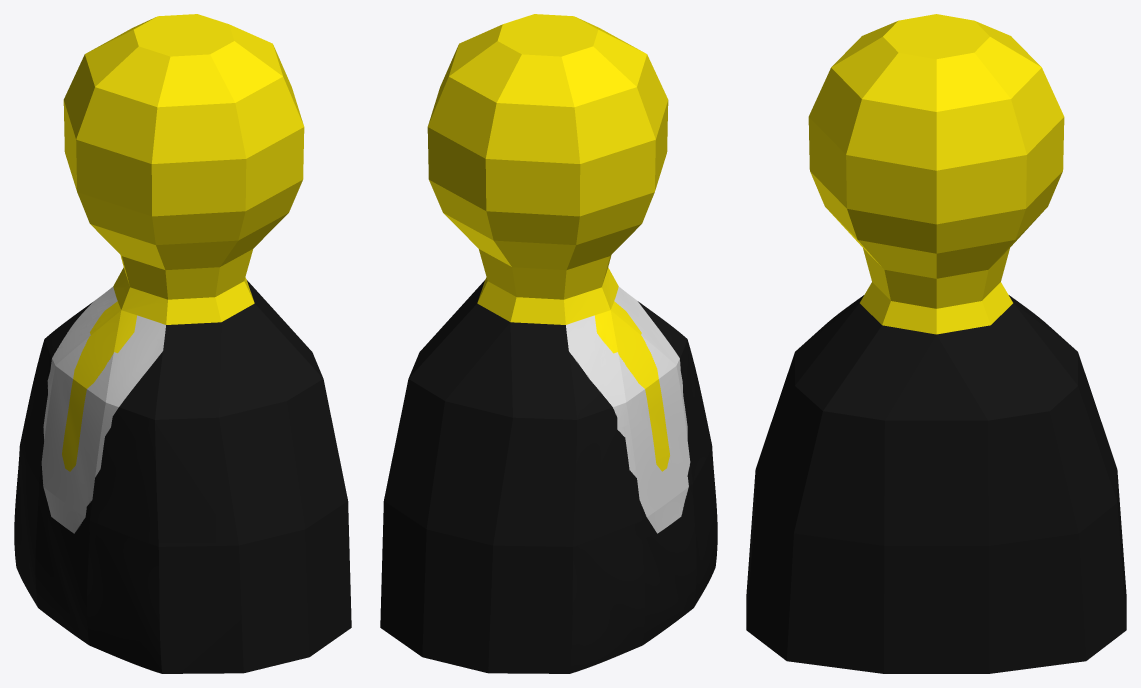
File: gelbe_figur.fbx
3 views of the same model, side by side, from view 1: azimuth 30°, elevation 25°; view 2: azimuth 150°, elevation 25°; view 3: azimuth 270°, elevation 25° (orthographic). The views are drawn at different scales.
Visible parts, largest first — view 1: pawn_D_red; view 2: pawn_D_red; view 3: pawn_D_red.
Boxes of the visible parts, x1,y1,x2,y2 form: pawn_D_red: [14, 14, 351, 673]; pawn_D_red: [380, 14, 717, 673]; pawn_D_red: [746, 14, 1126, 673].
Size of the model in its own units: 41.89 by 92.32 by 55.1.
